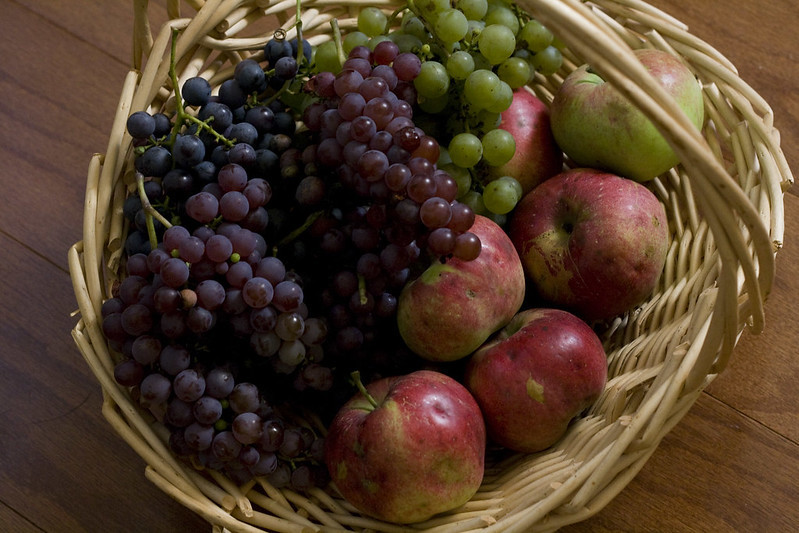apple: (311, 367, 488, 522), (512, 165, 679, 313), (468, 305, 610, 439), (556, 51, 703, 170)
